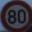Speed Limit -80-: (0, 0, 31, 31)
